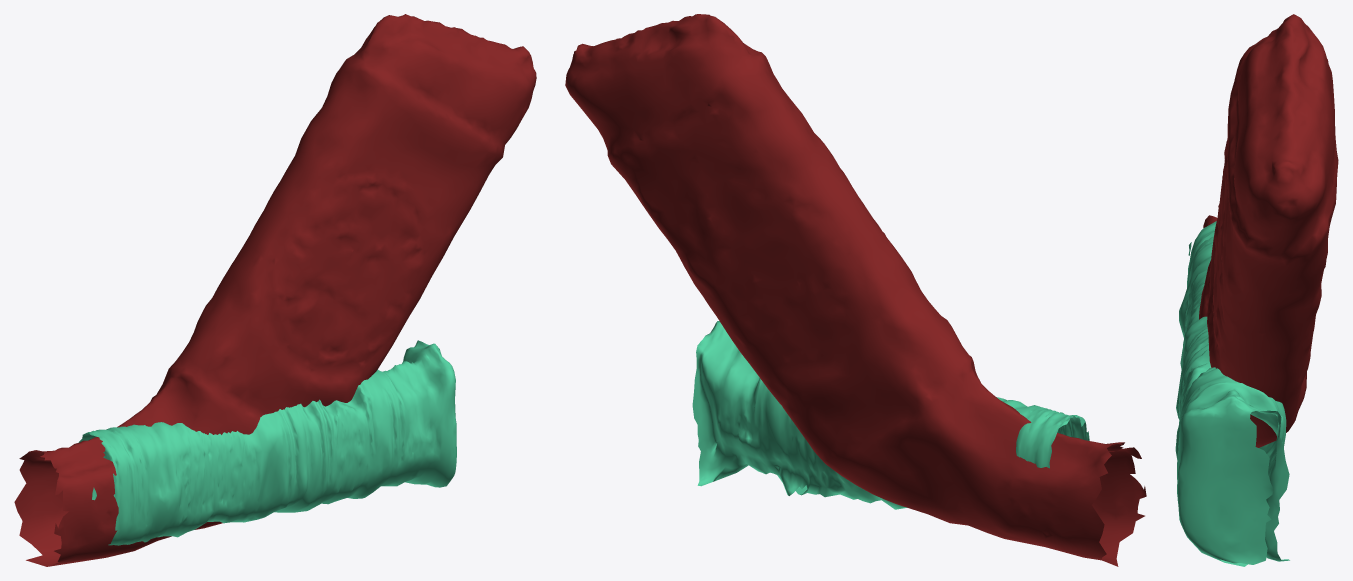
Rendered from object_deformed_1.obj.
3 views of the same model, side by side, from view 1: azimuth 30°, elevation 25°; view 2: azimuth 150°, elevation 25°; view 3: azimuth 270°, elevation 25° (orthographic). The views are drawn at different scales.
Bounding box in the file's own units: 0.1986 × 0.1675 × 0.046.
